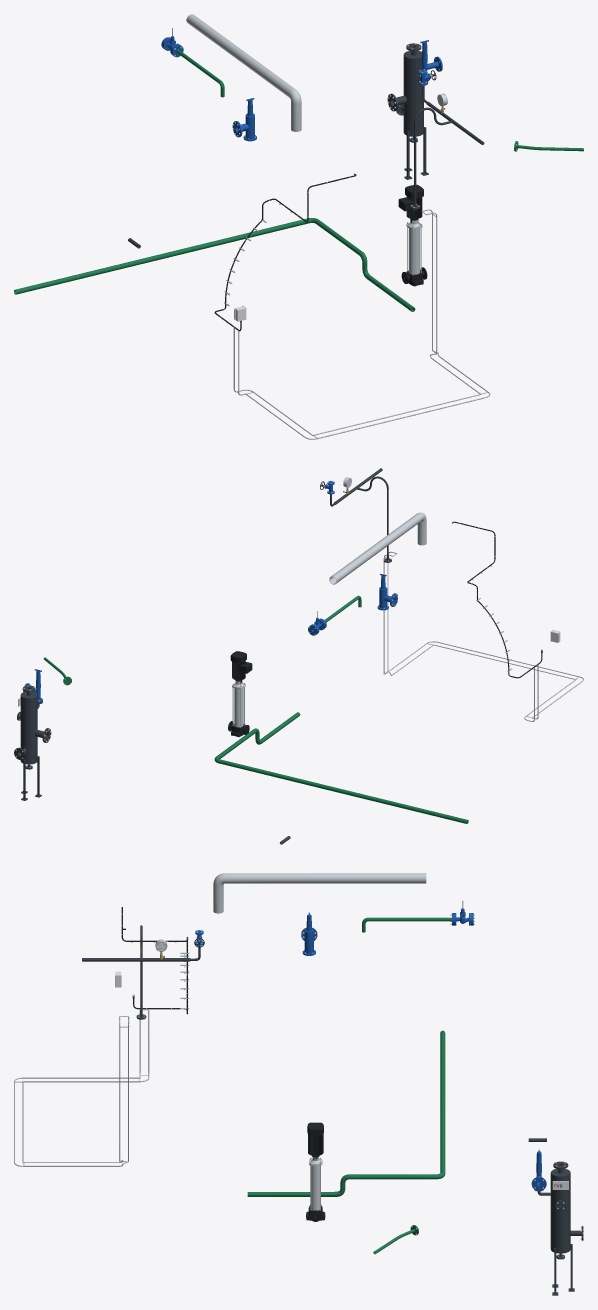
3 views of the same model, one above another, from view 1: azimuth 30°, elevation 25°; view 2: azimuth 150°, elevation 25°; view 3: azimuth 270°, elevation 25° (orthographic). The views are drawn at different scales.
Visible parts, largest first — view 1: suction_common / green, separator_fv8 / dark, cables / zinc, steam_delivery / steel, steam_rise / steel, pressure_header / dark, pump_2 CAD solid 15, wiring_lcs600 / black; view 2: separator_fv8 / dark, suction_common / green, cables / zinc, steam_delivery / steel, pressure_header / dark, steam_rise / steel, pump_2 CAD solid 15; view 3: separator_fv8 / dark, suction_common / green, cables / zinc, steam_delivery / steel, steam_rise / steel, pressure_header / dark, pump_2 CAD solid 15.
Part boxes in pixels (x1,y1,x2,y2): suction_common / green: [14, 218, 415, 311]; separator_fv8 / dark: [387, 43, 429, 179]; cables / zinc: [233, 209, 490, 439]; steam_delivery / steel: [186, 14, 252, 65]; steam_rise / steel: [265, 71, 301, 131]; pressure_header / dark: [410, 85, 484, 209]; pump_2 CAD solid 15: [398, 184, 423, 219]; wiring_lcs600 / black: [214, 173, 356, 331]; separator_fv8 / dark: [14, 685, 51, 800]; suction_common / green: [214, 712, 468, 823]; cables / zinc: [383, 551, 583, 721]; steam_delivery / steel: [329, 539, 387, 584]; pressure_header / dark: [330, 468, 391, 562]; steam_rise / steel: [398, 512, 426, 545]; pump_2 CAD solid 15: [230, 651, 252, 680]; separator_fv8 / dark: [534, 1161, 583, 1295]; suction_common / green: [247, 1030, 445, 1196]; cables / zinc: [14, 1009, 149, 1166]; steam_delivery / steel: [309, 873, 426, 883]; steam_rise / steel: [213, 873, 271, 913]; pressure_header / dark: [82, 925, 200, 1019]; pump_2 CAD solid 15: [307, 1122, 323, 1156].
Size of the model in its own units: 6.71 by 3.37 by 6.28.
